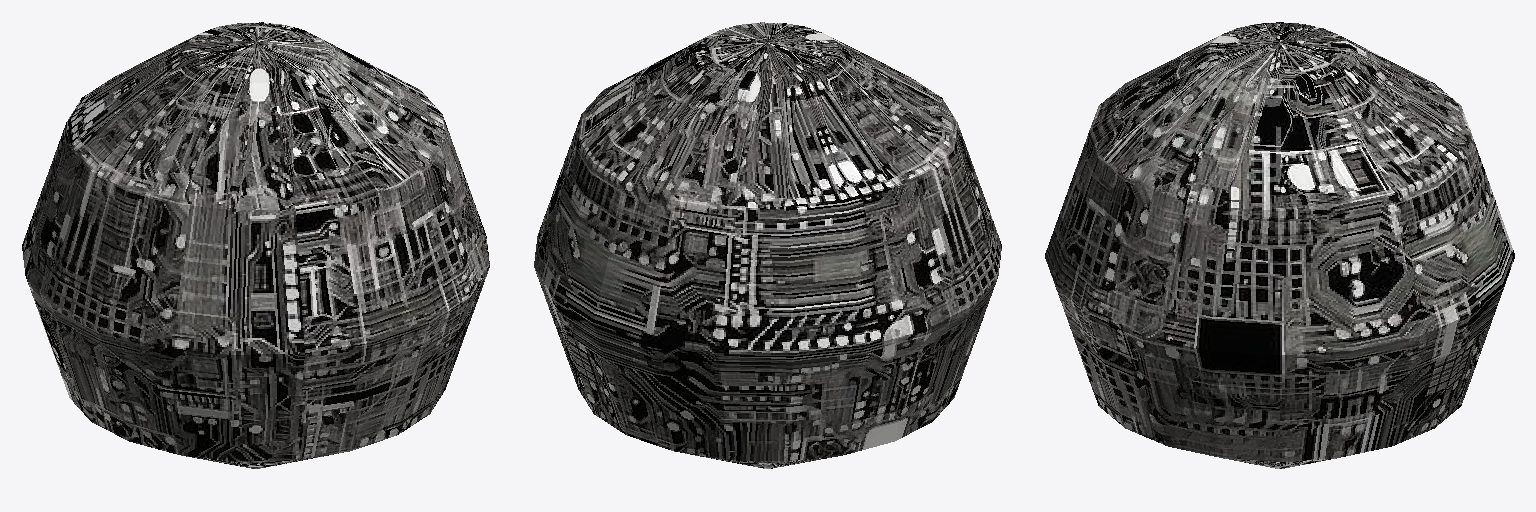
3 views of the same model, side by side, from view 1: azimuth 30°, elevation 25°; view 2: azimuth 150°, elevation 25°; view 3: azimuth 270°, elevation 25° (orthographic).
Parts seen in each view (by area): view 1: ColorSwitcher; view 2: ColorSwitcher; view 3: ColorSwitcher.
Boxes of the visible parts, x1=… form: ColorSwitcher: x1=22, y1=22, x2=489, y2=468; ColorSwitcher: x1=534, y1=22, x2=1001, y2=468; ColorSwitcher: x1=1045, y1=22, x2=1514, y2=468.
Size of the model in its own units: 2 by 2 by 2.
Materials: 1 (1 with a texture image).